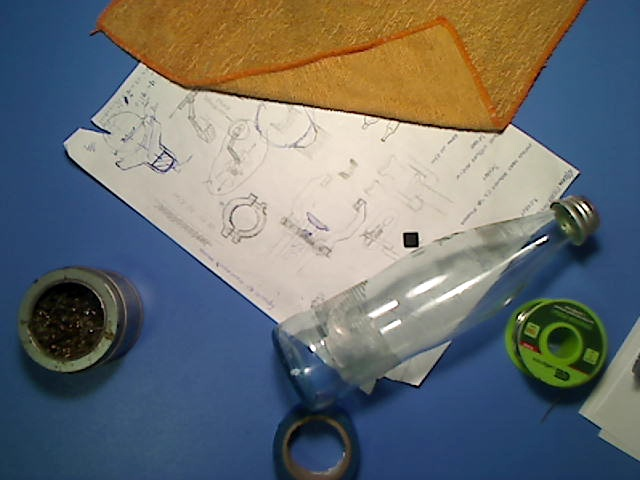bottle: (271, 193, 602, 413)
